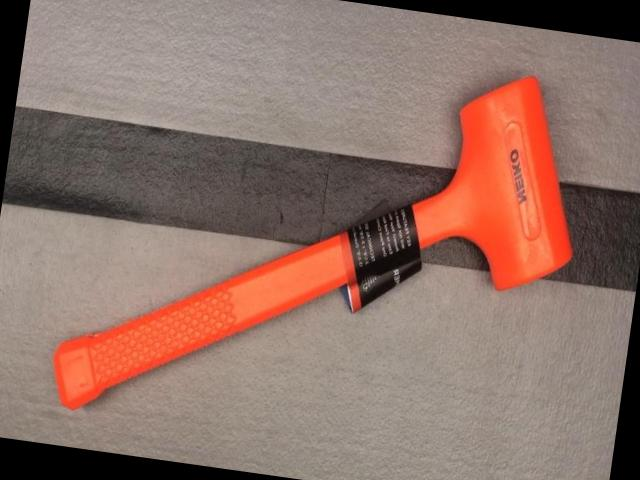hammer: (44, 17, 595, 478)
